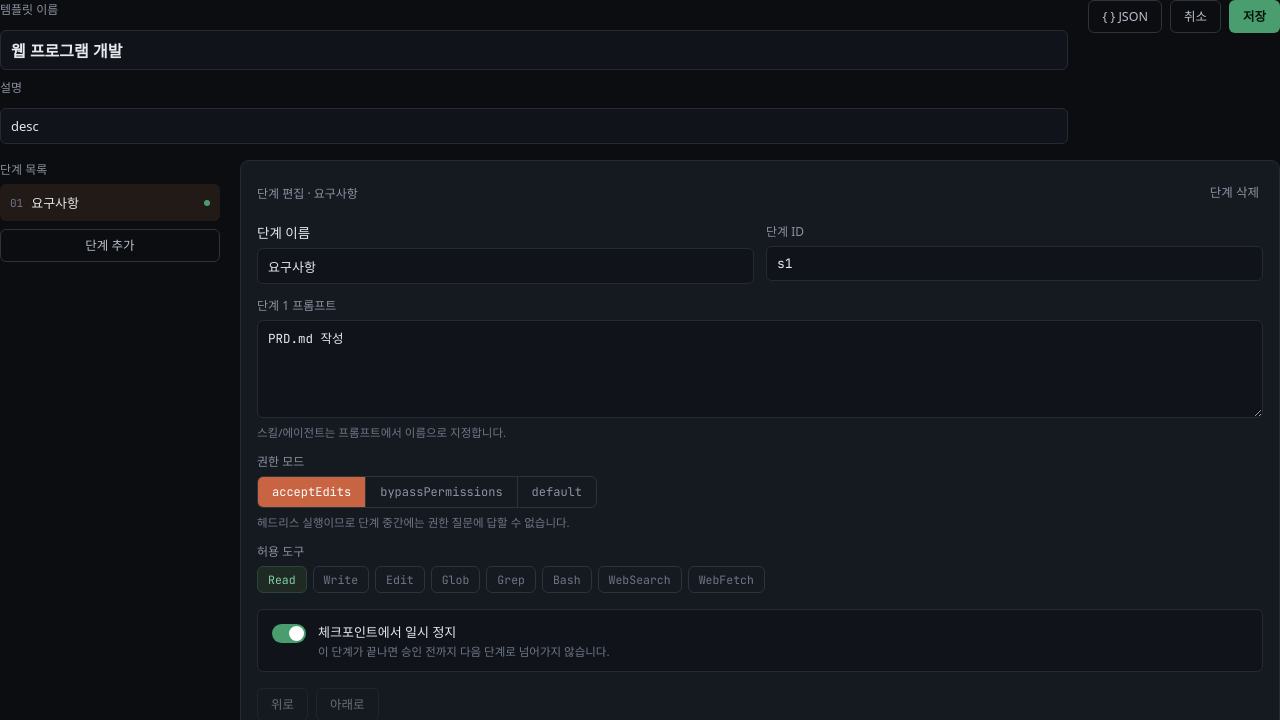
Test: TemplateEditor › disables save when a stage prompt is empty
Clear the text box labelled "단계 1 프롬프트". click: (760, 369)
box: [257,320,1263,418]
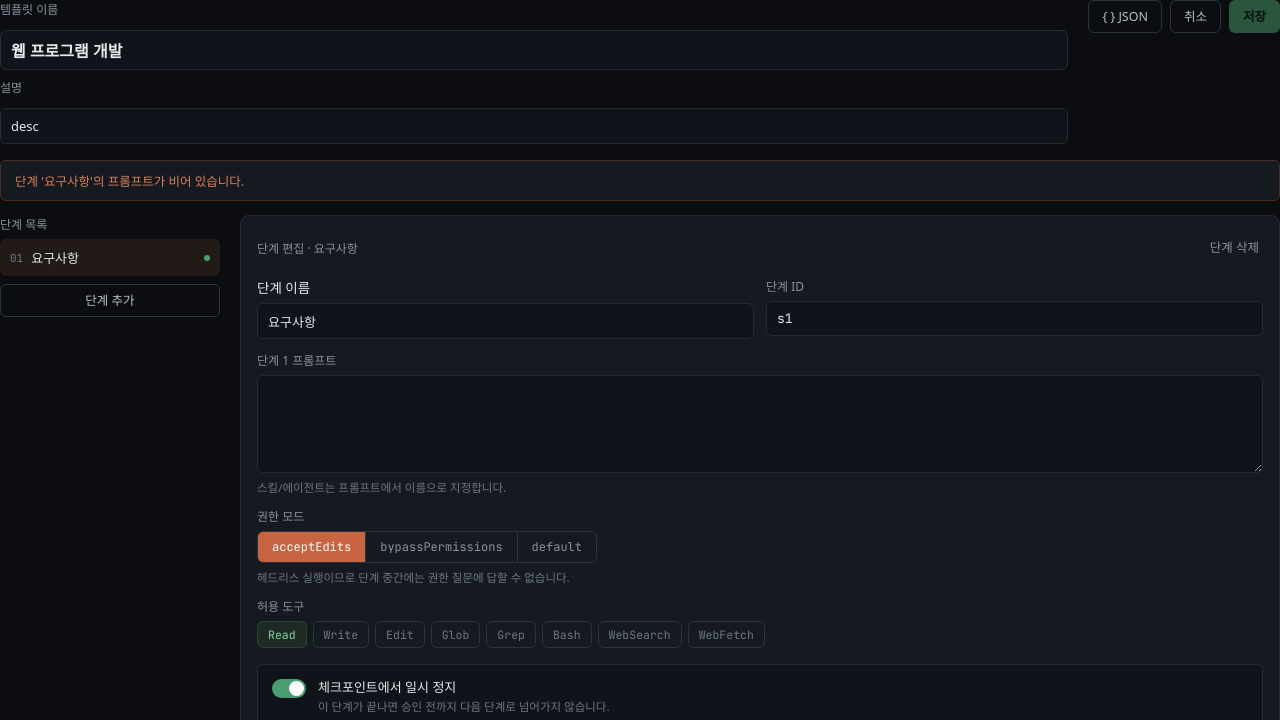
Expected: the button "저장" is disabled, [1229,0,1279,33]
